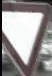Give way: (1, 3, 47, 72)
